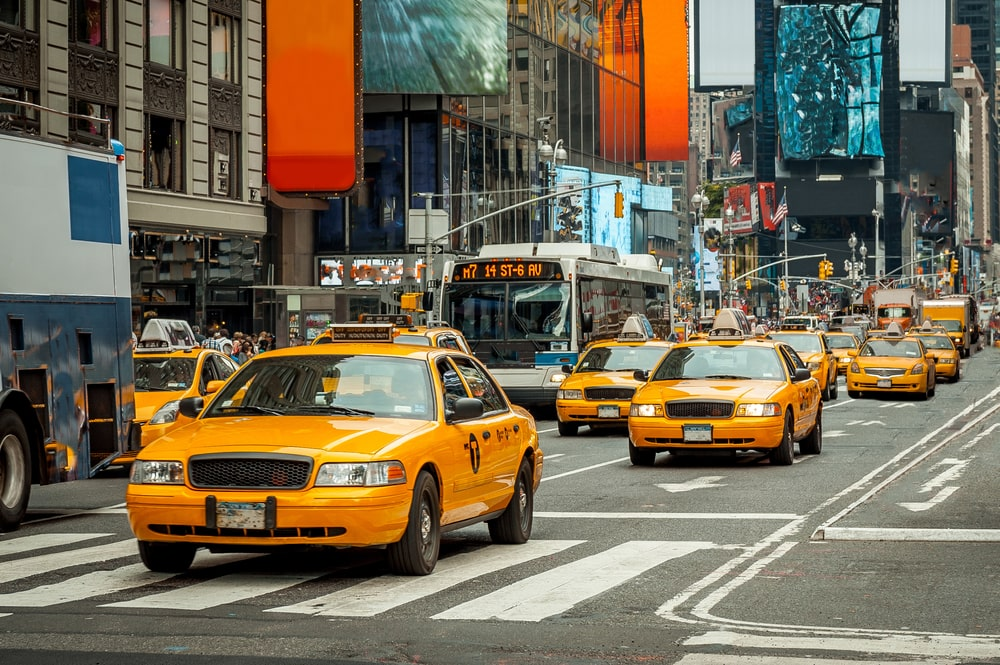car: (126, 341, 543, 576), (629, 310, 824, 465), (845, 336, 937, 403)
